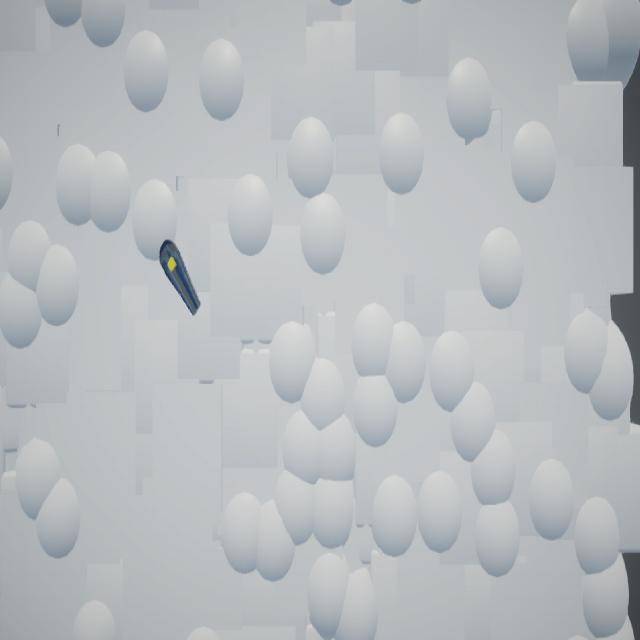handle_knife: (160, 240, 202, 317)
